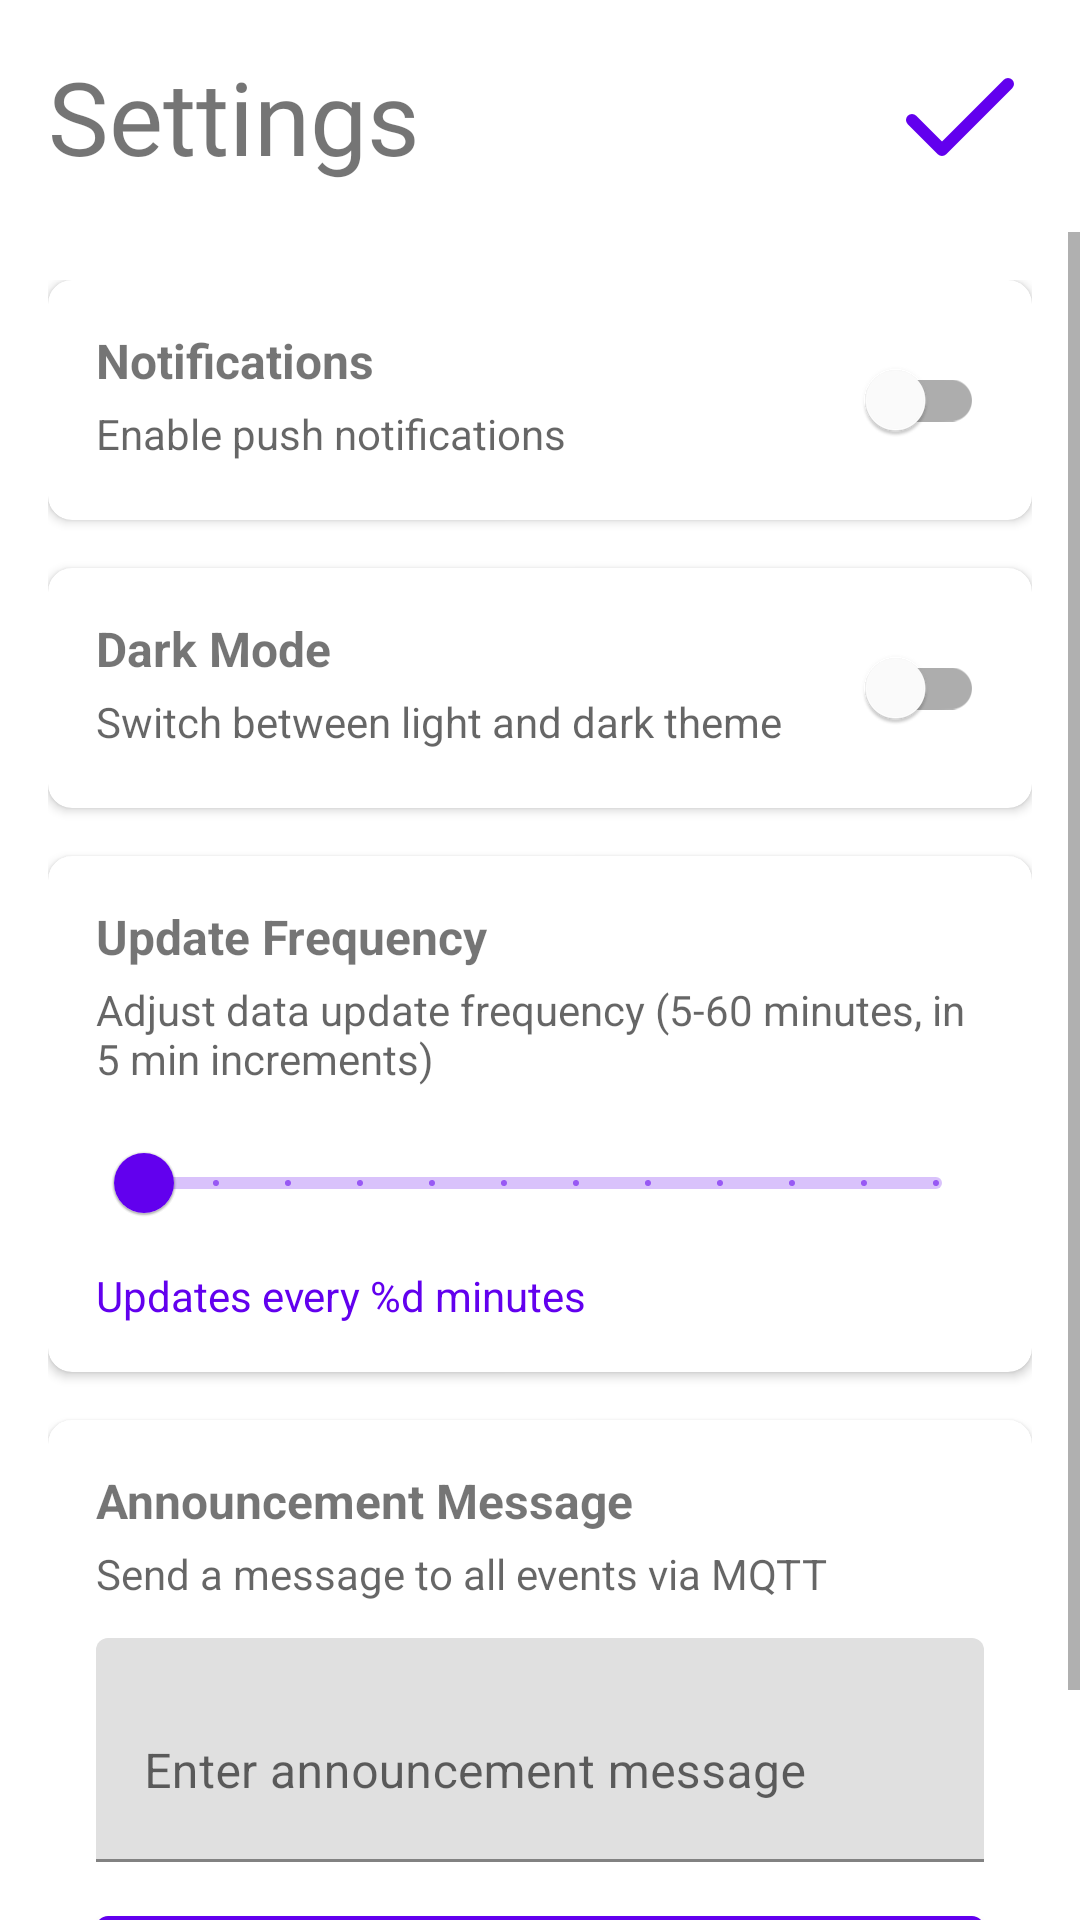

Icon bounding boxes for this 1080px×1920px phone screenshot, format {"left": x1, "top": y1, "right": x2, "bottom": y2}:
Confirm: {"left": 906, "top": 78, "right": 1014, "bottom": 156}
